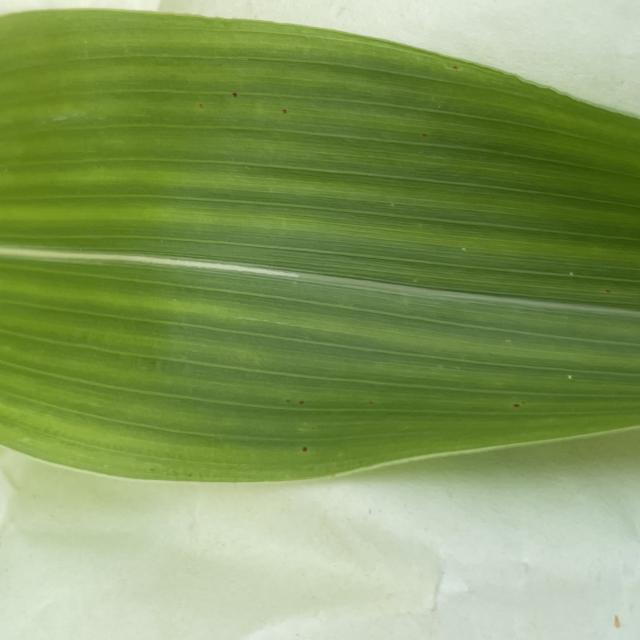millet_healthy: (0, 10, 640, 482)
